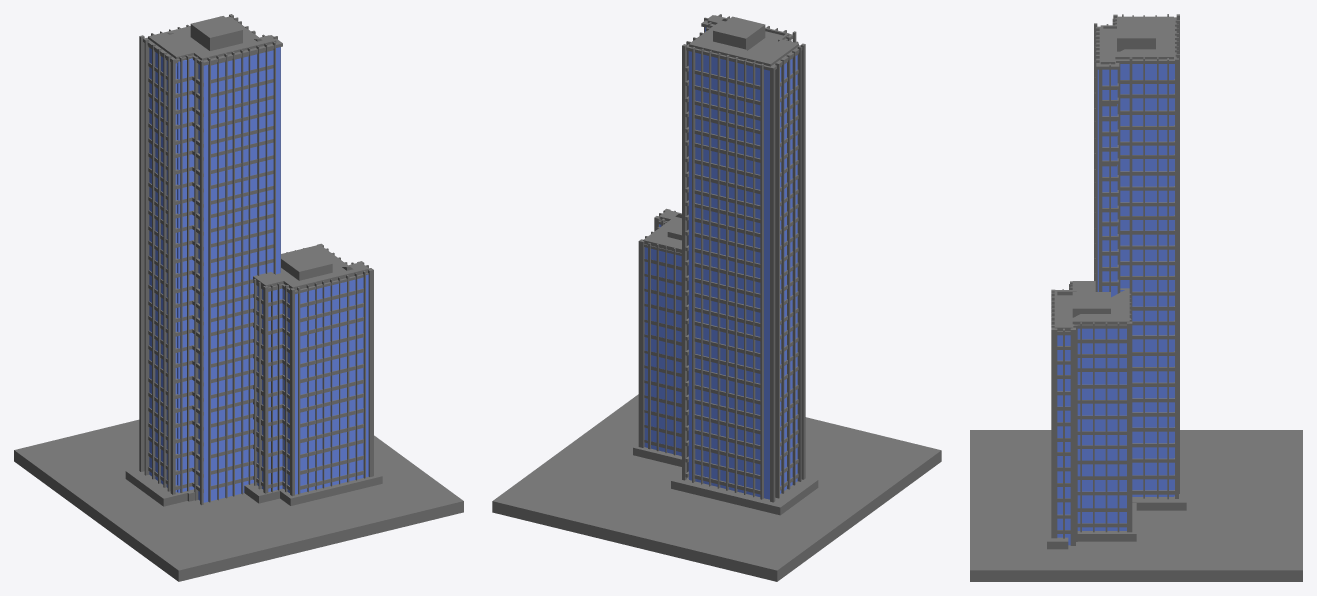
Rendered from building.glb.
The picture shows the model from 3 angles, left to right: view 1: azimuth 30°, elevation 25°; view 2: azimuth 150°, elevation 25°; view 3: azimuth 270°, elevation 25°; orthographic projection.
Visible parts, largest first — view 1: pCube1, pasted__pasted__pasted__pasted__pasted__pasted__pCube3_4; view 2: pCube1, pasted__pasted__pasted__pasted__pasted__pasted__pCube3_4; view 3: pCube1, pasted__pasted__pasted__pasted__pasted__pasted__pCube3_4.
Boxes of the visible parts, <box> form: pCube1: <box>14,14,463,581</box>; pasted__pasted__pasted__pasted__pasted__pasted__pCube3_4: <box>149,47,368,502</box>; pCube1: <box>492,14,941,581</box>; pasted__pasted__pasted__pasted__pasted__pasted__pCube3_4: <box>644,27,797,499</box>; pCube1: <box>970,14,1302,581</box>; pasted__pasted__pasted__pasted__pasted__pasted__pCube3_4: <box>1057,64,1174,545</box>.
Bounding box in the file's own units: 42.81 × 68.13 × 42.81.
